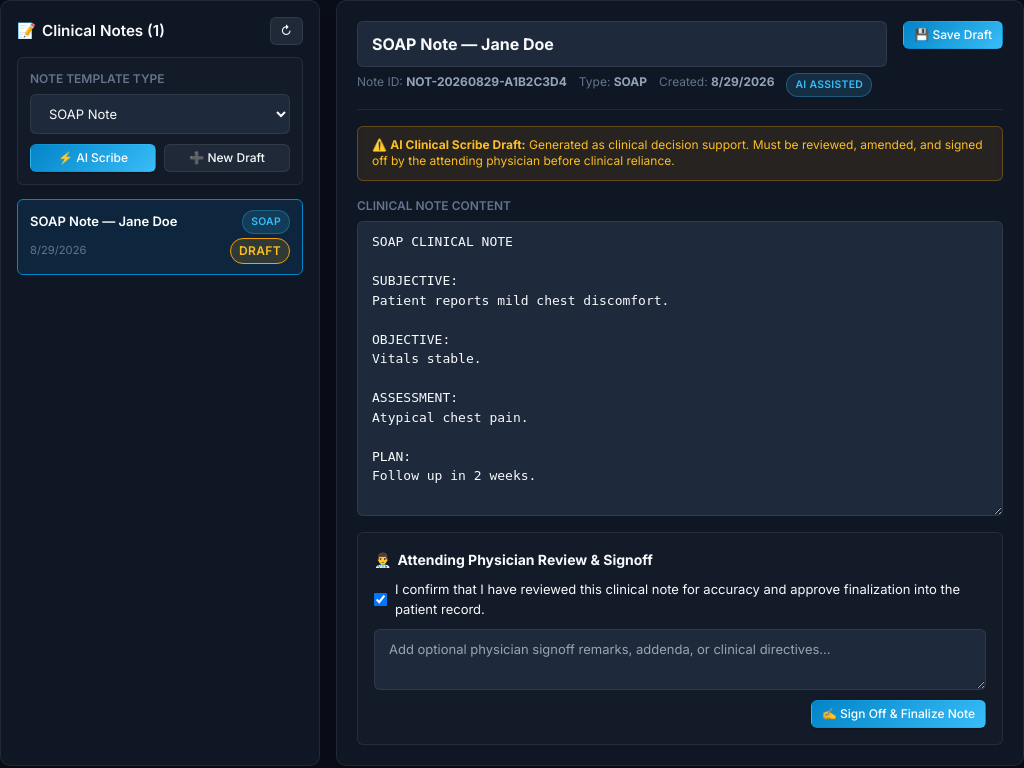
Test: Clinical Note Workspace & AI Scribe › submits physician review signoff to finalize clinical note
This screenshot has width=1024, height=768.
What coordinates should you click on to do the following:
click the button "✍️ Sign Off & Finalize Note"
I would click on:
 (898, 714)
Its box is [811,700,986,728].
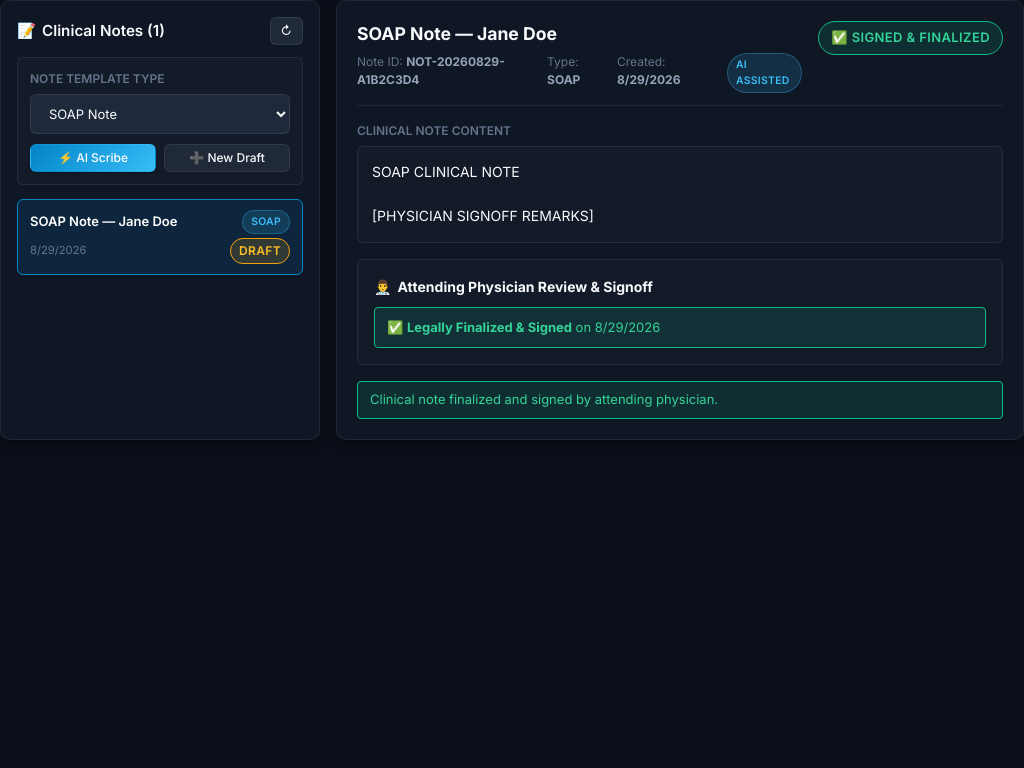
Expected: the text "Clinical note finalized and signed by attending physician." is shown, [357,381,1003,419]
